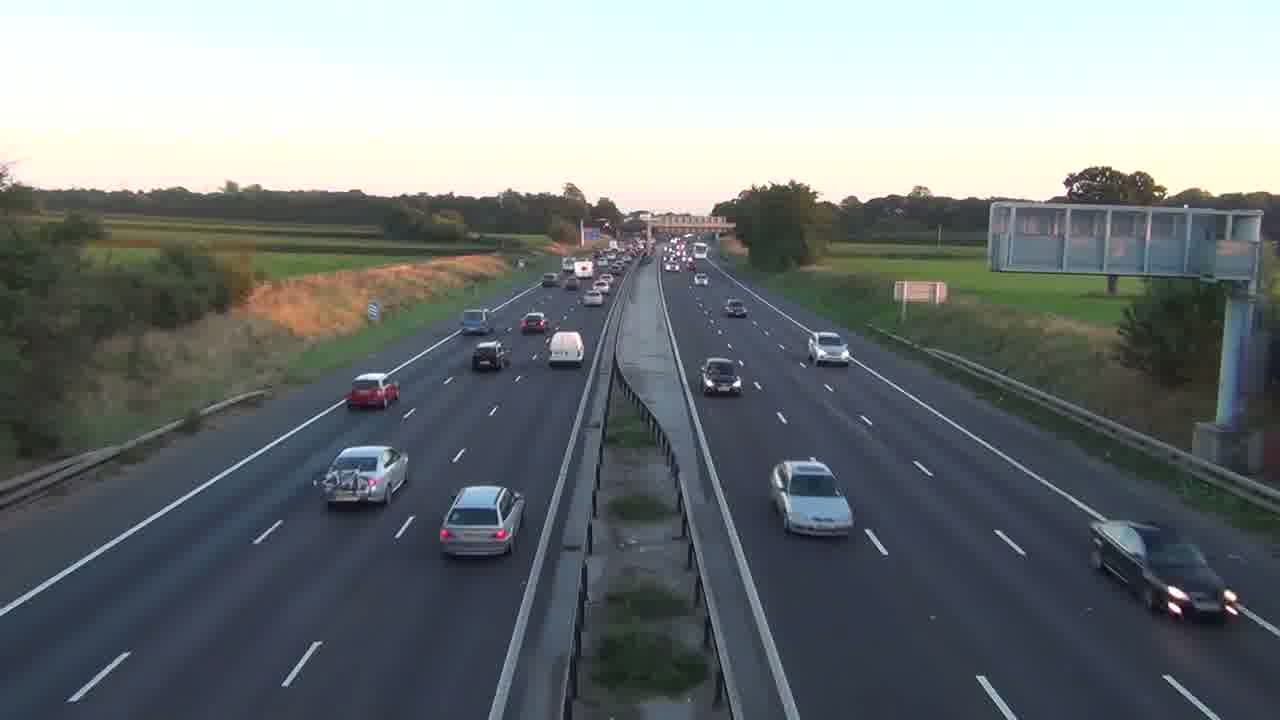car: (769, 457, 855, 538), (438, 484, 526, 558), (320, 444, 409, 507), (347, 372, 399, 410), (700, 356, 743, 397), (547, 329, 584, 369), (471, 340, 505, 372), (519, 311, 547, 335), (724, 298, 749, 318)
truck: (1087, 518, 1240, 624)
